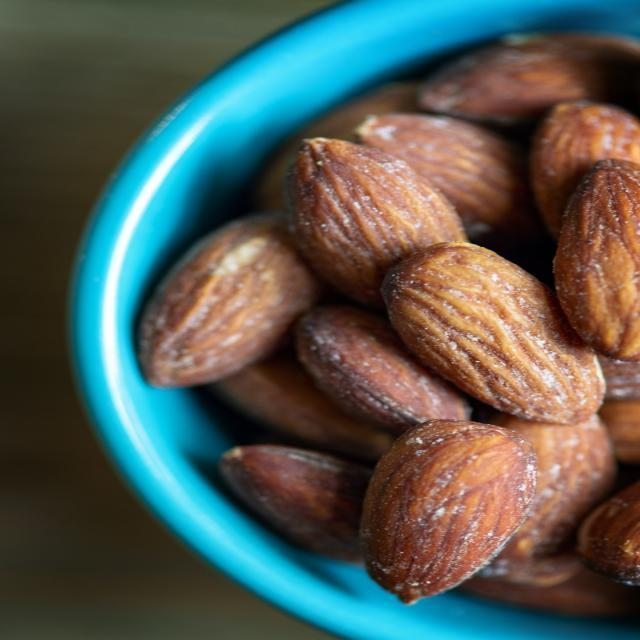almond: (382, 242, 610, 430), (353, 420, 547, 602), (142, 210, 313, 387), (293, 135, 462, 297), (285, 304, 478, 434), (352, 109, 533, 244), (210, 442, 377, 575), (548, 156, 640, 364), (571, 485, 640, 595)
